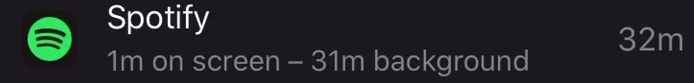name: (98, 1, 221, 39)
time: (304, 45, 370, 75), (101, 45, 150, 80)
